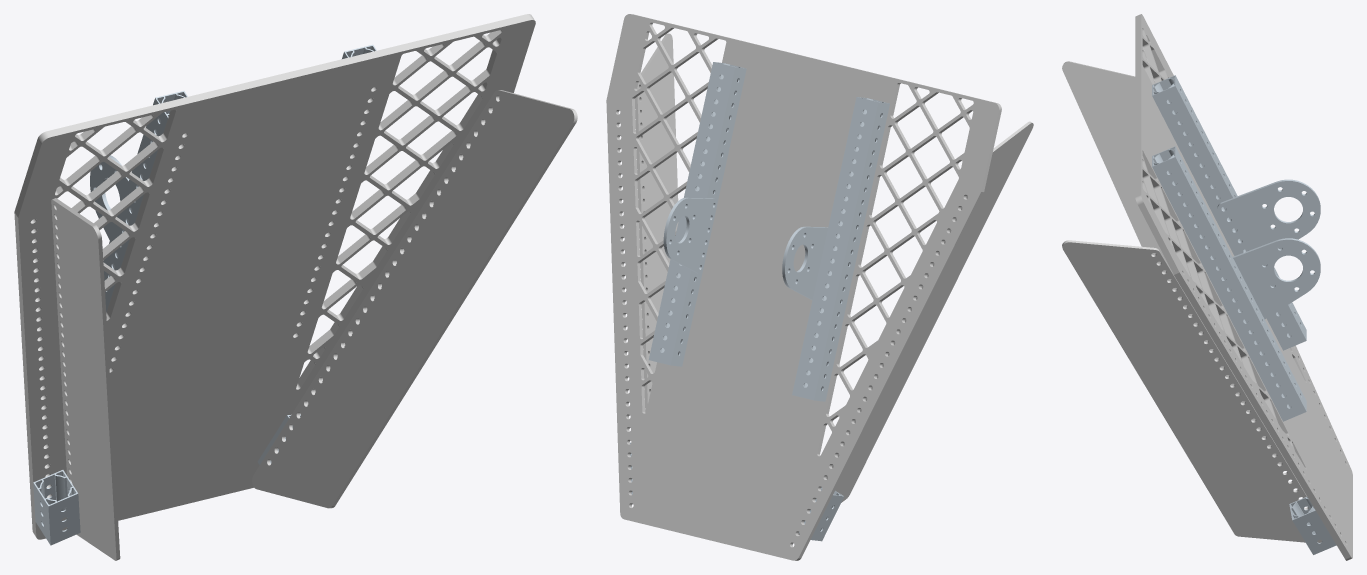
3 views of the same model, side by side, from view 1: azimuth 30°, elevation 25°; view 2: azimuth 150°, elevation 25°; view 3: azimuth 270°, elevation 25° (orthographic). The views are drawn at different scales.
Visible parts, largest first — view 1: Bottom Plate, Side Plate R, Side Plate L, Tube 1"x1"x2", Tube 1"x1"x12", Pivot Plate; view 2: Bottom Plate, Tube 1"x1"x12" (×2), Side Plate R, Side Plate L, Pivot Plate (×2), Tube 1"x1"x2"; view 3: Side Plate R, Bottom Plate, Tube 1"x1"x12" (×2), Pivot Plate (×2), Side Plate L, Tube 1"x1"x2".
Boxes of the visible parts, left/top/right/bottom form: Bottom Plate: left=14, top=14, right=535, bottom=539; Side Plate R: left=252, top=90, right=577, bottom=508; Side Plate L: left=51, top=198, right=120, bottom=560; Tube 1"x1"x2": left=33, top=470, right=80, bottom=545; Tube 1"x1"x12": left=103, top=91, right=187, bottom=311; Pivot Plate: left=90, top=155, right=129, bottom=240; Bottom Plate: left=606, top=14, right=1001, bottom=560; Tube 1"x1"x12" (×2): left=648, top=62, right=889, bottom=401; Side Plate R: left=635, top=33, right=678, bottom=412; Side Plate L: left=798, top=121, right=1033, bottom=534; Pivot Plate (×2): left=663, top=197, right=827, bottom=300; Tube 1"x1"x2": left=799, top=487, right=844, bottom=541; Side Plate R: left=1062, top=240, right=1321, bottom=542; Bottom Plate: left=1135, top=14, right=1352, bottom=560; Tube 1"x1"x12" (×2): left=1152, top=75, right=1306, bottom=421; Pivot Plate (×2): left=1217, top=179, right=1320, bottom=319; Side Plate L: left=1062, top=61, right=1281, bottom=464; Tube 1"x1"x2": left=1289, top=497, right=1336, bottom=554.
Size of the model in its own units: 0.4318 by 0.4487 by 0.2856.
